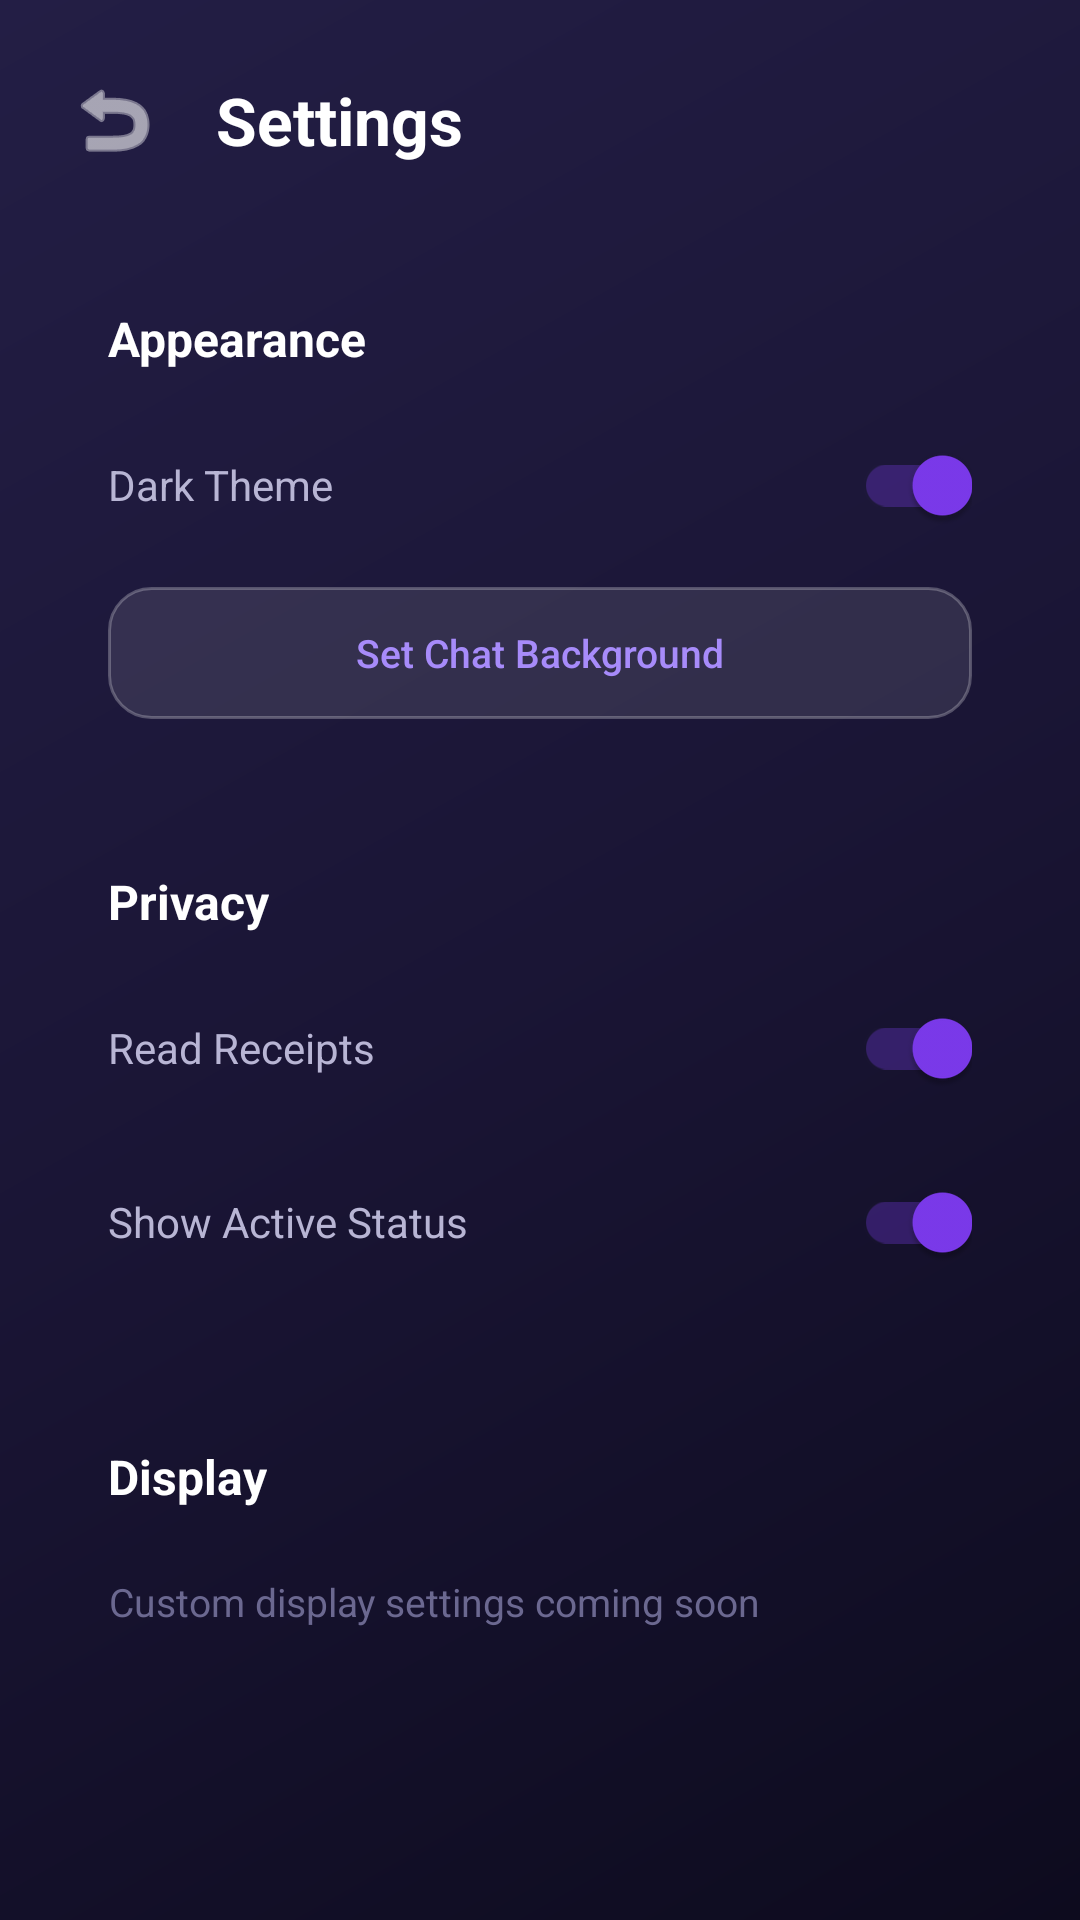

Named icons in this screenshot (1080x1920) and their bounding boxes, detection(x1, y1, x2, y2):
Back: detection(81, 89, 150, 152)
